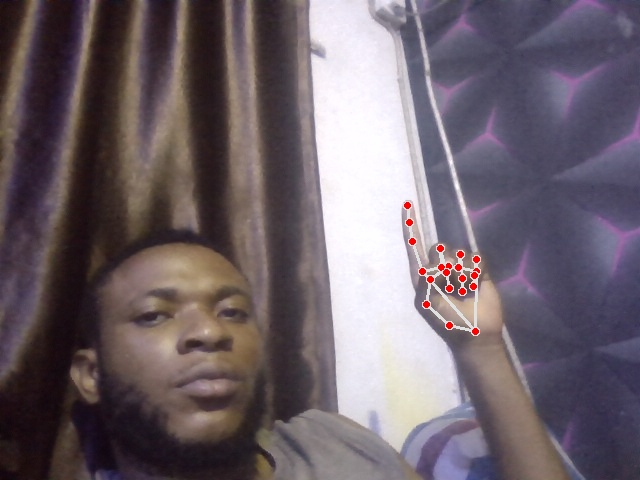number1: (401, 201, 507, 334)
